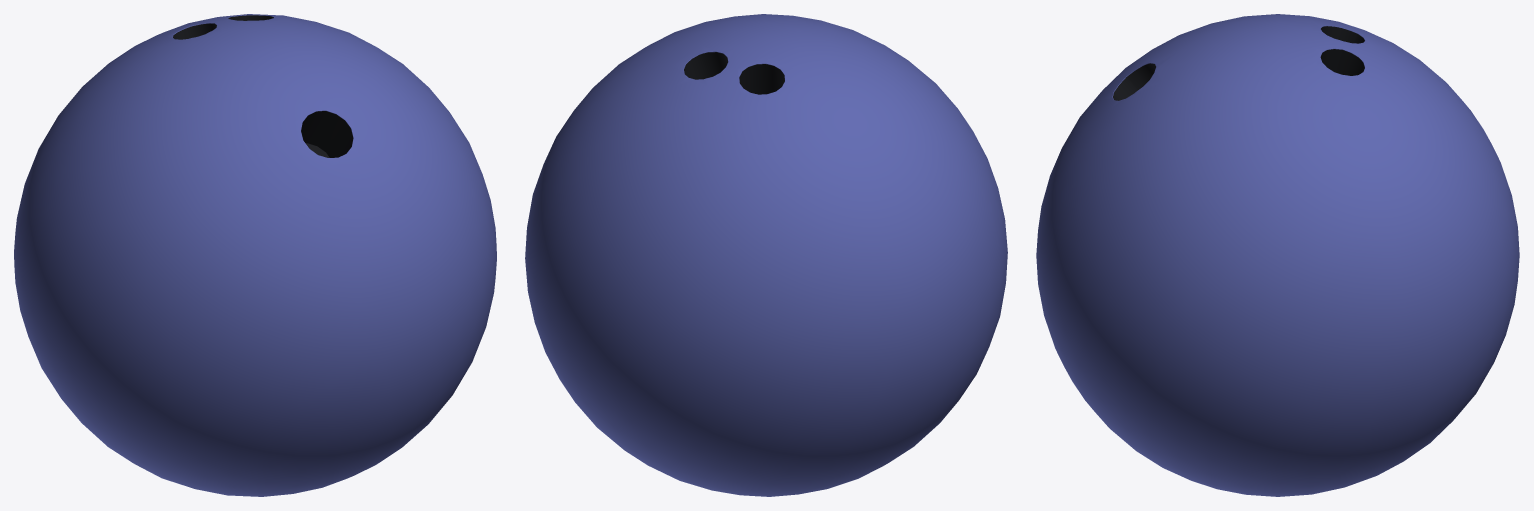
File: w_pj_bowling.glb
3 renders of one model, left to right at view 1: azimuth 30°, elevation 25°; view 2: azimuth 150°, elevation 25°; view 3: azimuth 270°, elevation 25°, orthographic.
Parts seen in each view (by area): view 1: ball_wzA__ball__p5d66ad, ball_wzN__black__p16171b; view 2: ball_wzA__ball__p5d66ad, ball_wzN__black__p16171b; view 3: ball_wzA__ball__p5d66ad, ball_wzN__black__p16171b.
Boxes of the visible parts, x1=… form: ball_wzA__ball__p5d66ad: x1=14, y1=14, x2=496, y2=496; ball_wzN__black__p16171b: x1=173, y1=15, x2=353, y2=157; ball_wzA__ball__p5d66ad: x1=525, y1=14, x2=1007, y2=496; ball_wzN__black__p16171b: x1=684, y1=52, x2=784, y2=94; ball_wzA__ball__p5d66ad: x1=1036, y1=14, x2=1519, y2=496; ball_wzN__black__p16171b: x1=1113, y1=26, x2=1364, y2=100.
Bounding box in the file's own units: 0.22 × 0.22 × 0.22.
